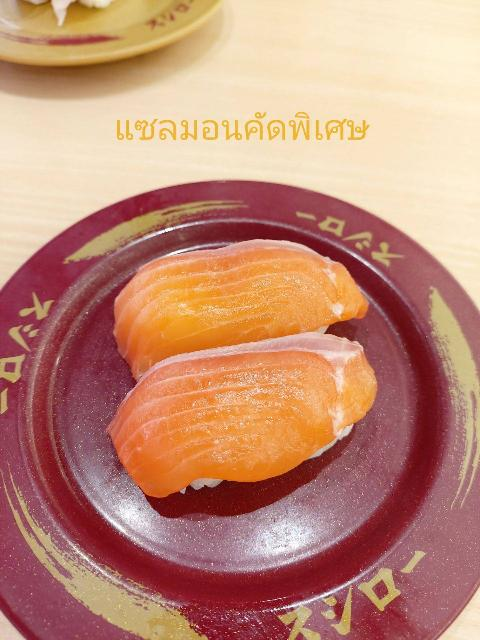jangold: (0, 0, 241, 93)
janred: (18, 179, 447, 640)
